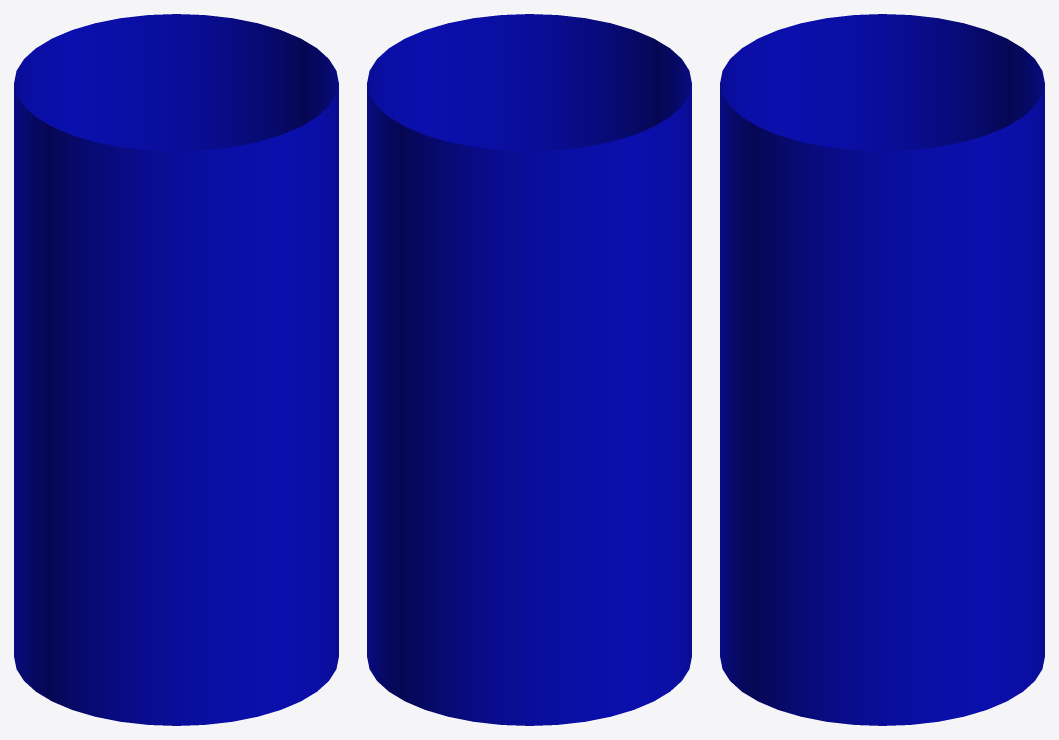
Rendered from Tank_Glass.FBX.
3 views of the same model, side by side, from view 1: azimuth 30°, elevation 25°; view 2: azimuth 150°, elevation 25°; view 3: azimuth 270°, elevation 25° (orthographic).
Visible parts, largest first — view 1: GlassOuter; view 2: GlassOuter; view 3: GlassOuter.
Boxes of the visible parts, x1,y1,x2,y2 form: GlassOuter: (14,14,338,725); GlassOuter: (367,14,691,725); GlassOuter: (720,14,1044,725).
Bounding box in the file's own units: 38.78 × 75.72 × 38.77.
